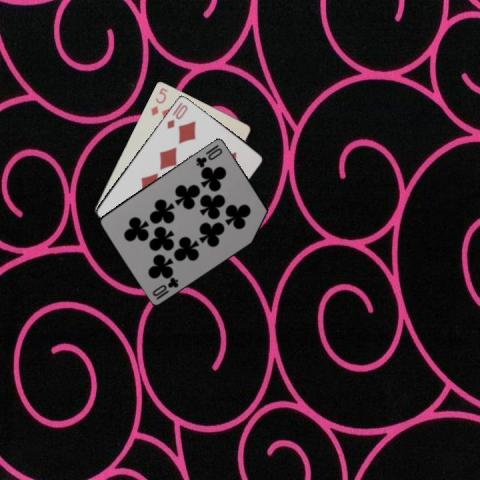10c: (193, 141, 224, 169), (149, 274, 180, 301)
10d: (164, 101, 189, 130)
5d: (148, 84, 169, 116)
